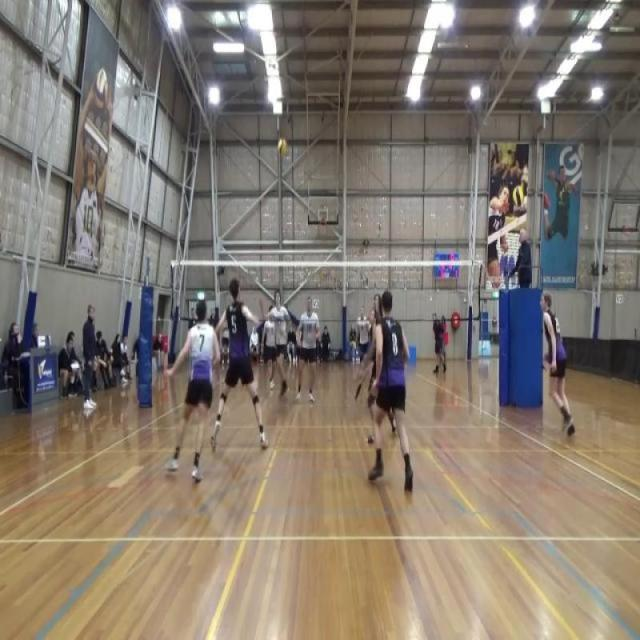volleyball: (94, 67, 110, 108), (512, 185, 524, 208), (276, 136, 288, 159)
